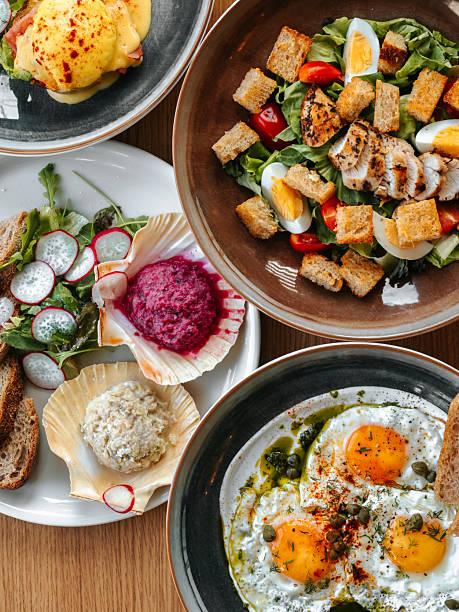Braised Crucian Carp: (2, 144, 256, 508), (173, 4, 453, 332), (166, 343, 453, 610), (2, 1, 212, 154)
